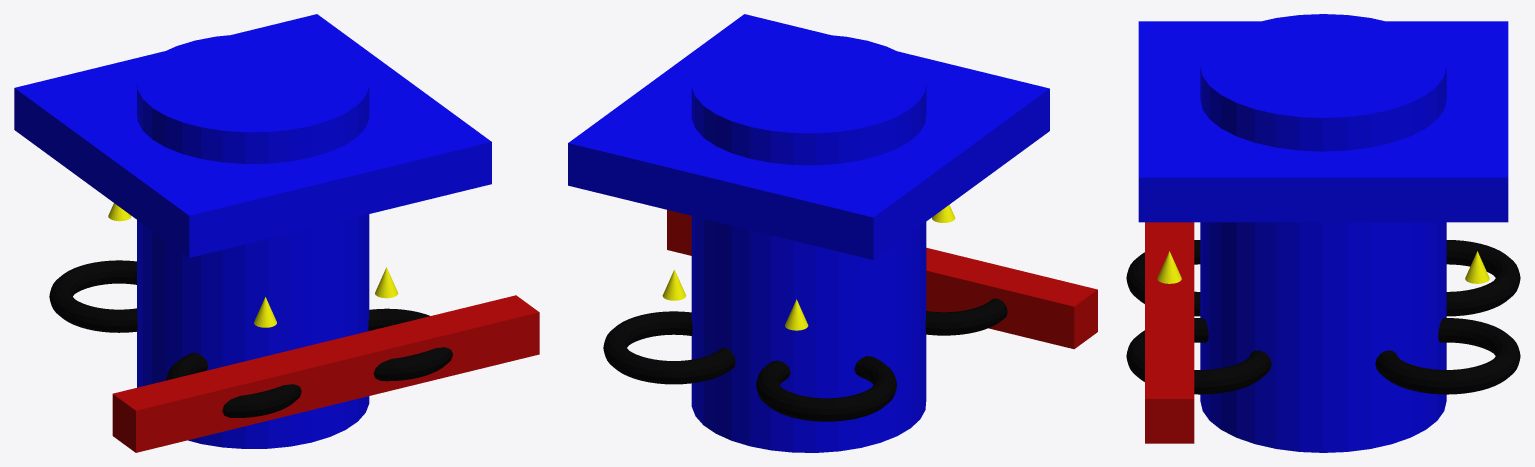
Rendered from 20260311_182427_car_blue.glb.
3 renders of one model, left to right at view 1: azimuth 30°, elevation 25°; view 2: azimuth 150°, elevation 25°; view 3: azimuth 270°, elevation 25°, orthographic. The views are drawn at different scales.
Visible parts, largest first — view 1: Car Body, Car Roof, Bumper, Rear Wheel 2, Front Wheel 1, Front Wheel 2; view 2: Car Body, Car Roof, Bumper, Rear Wheel 1, Rear Wheel 2, Front Wheel 2; view 3: Car Body, Car Roof, Bumper, Rear Wheel 1, Rear Wheel 2, Front Wheel 1, Front Wheel 2, Headlight 1, Taillight 1.
Boxes of the visible parts, box(x1,y1,x2,y2) form: Car Body: box(137, 34, 369, 448); Car Roof: box(14, 14, 491, 257); Bumper: box(112, 295, 539, 452); Rear Wheel 2: box(49, 260, 137, 332); Front Wheel 1: box(368, 308, 452, 381); Front Wheel 2: box(166, 353, 301, 417); Car Body: box(691, 34, 926, 452); Car Roof: box(568, 14, 1049, 259); Bumper: box(667, 210, 1097, 349); Rear Wheel 1: box(603, 311, 735, 384); Rear Wheel 2: box(756, 356, 896, 421); Front Wheel 2: box(925, 298, 1007, 335); Car Body: box(1200, 14, 1446, 452); Car Roof: box(1138, 21, 1508, 222); Bumper: box(1145, 222, 1194, 443); Rear Wheel 1: box(1375, 318, 1520, 394); Rear Wheel 2: box(1446, 240, 1520, 316); Front Wheel 1: box(1126, 318, 1271, 394); Front Wheel 2: box(1126, 240, 1200, 316); Headlight 1: box(1157, 251, 1181, 283); Taillight 1: box(1465, 251, 1489, 283).
Bounding box in the file's own units: 8 × 6 × 6.4.
